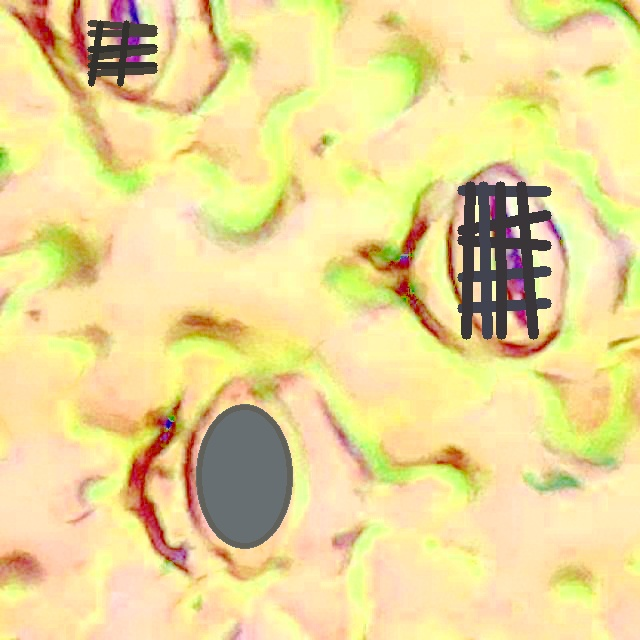close: (196, 404, 292, 547)
open: (457, 181, 550, 339), (87, 20, 157, 86)
